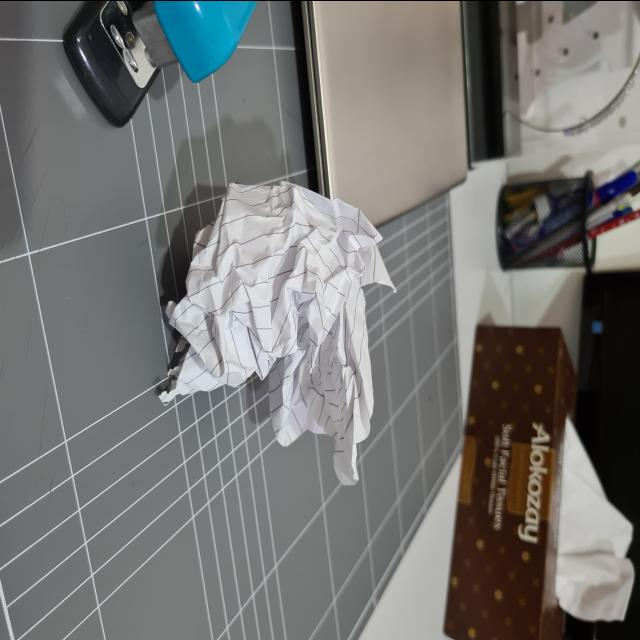kertas: (162, 174, 394, 485)
